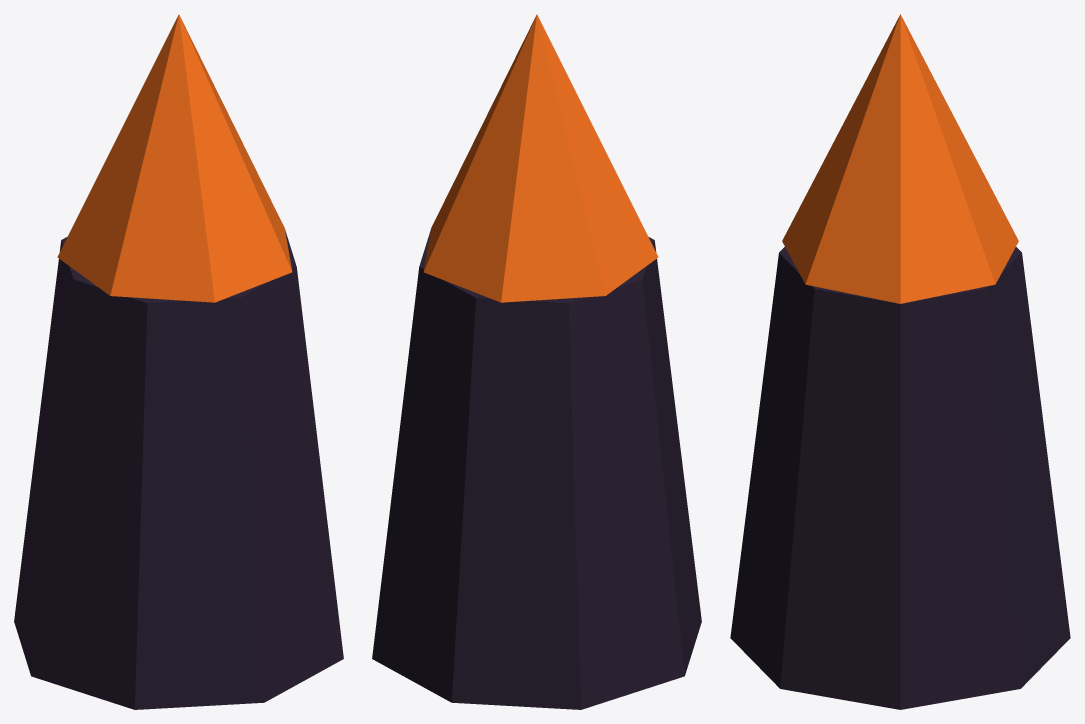
The model's file is brazier.obj.
The picture shows the model from 3 angles, left to right: view 1: azimuth 30°, elevation 25°; view 2: azimuth 150°, elevation 25°; view 3: azimuth 270°, elevation 25°; orthographic projection.
Visible parts, largest first — view 1: brazier, brazier_flame; view 2: brazier, brazier_flame; view 3: brazier, brazier_flame.
Boxes of the visible parts, x1=… form: brazier: x1=14, y1=228, x2=343, y2=709; brazier_flame: x1=57, y1=14, x2=292, y2=302; brazier: x1=372, y1=228, x2=701, y2=709; brazier_flame: x1=423, y1=14, x2=658, y2=302; brazier: x1=730, y1=247, x2=1070, y2=709; brazier_flame: x1=782, y1=14, x2=1018, y2=303.
Size of the model in its own units: 0.84 by 1.7 by 0.84.
